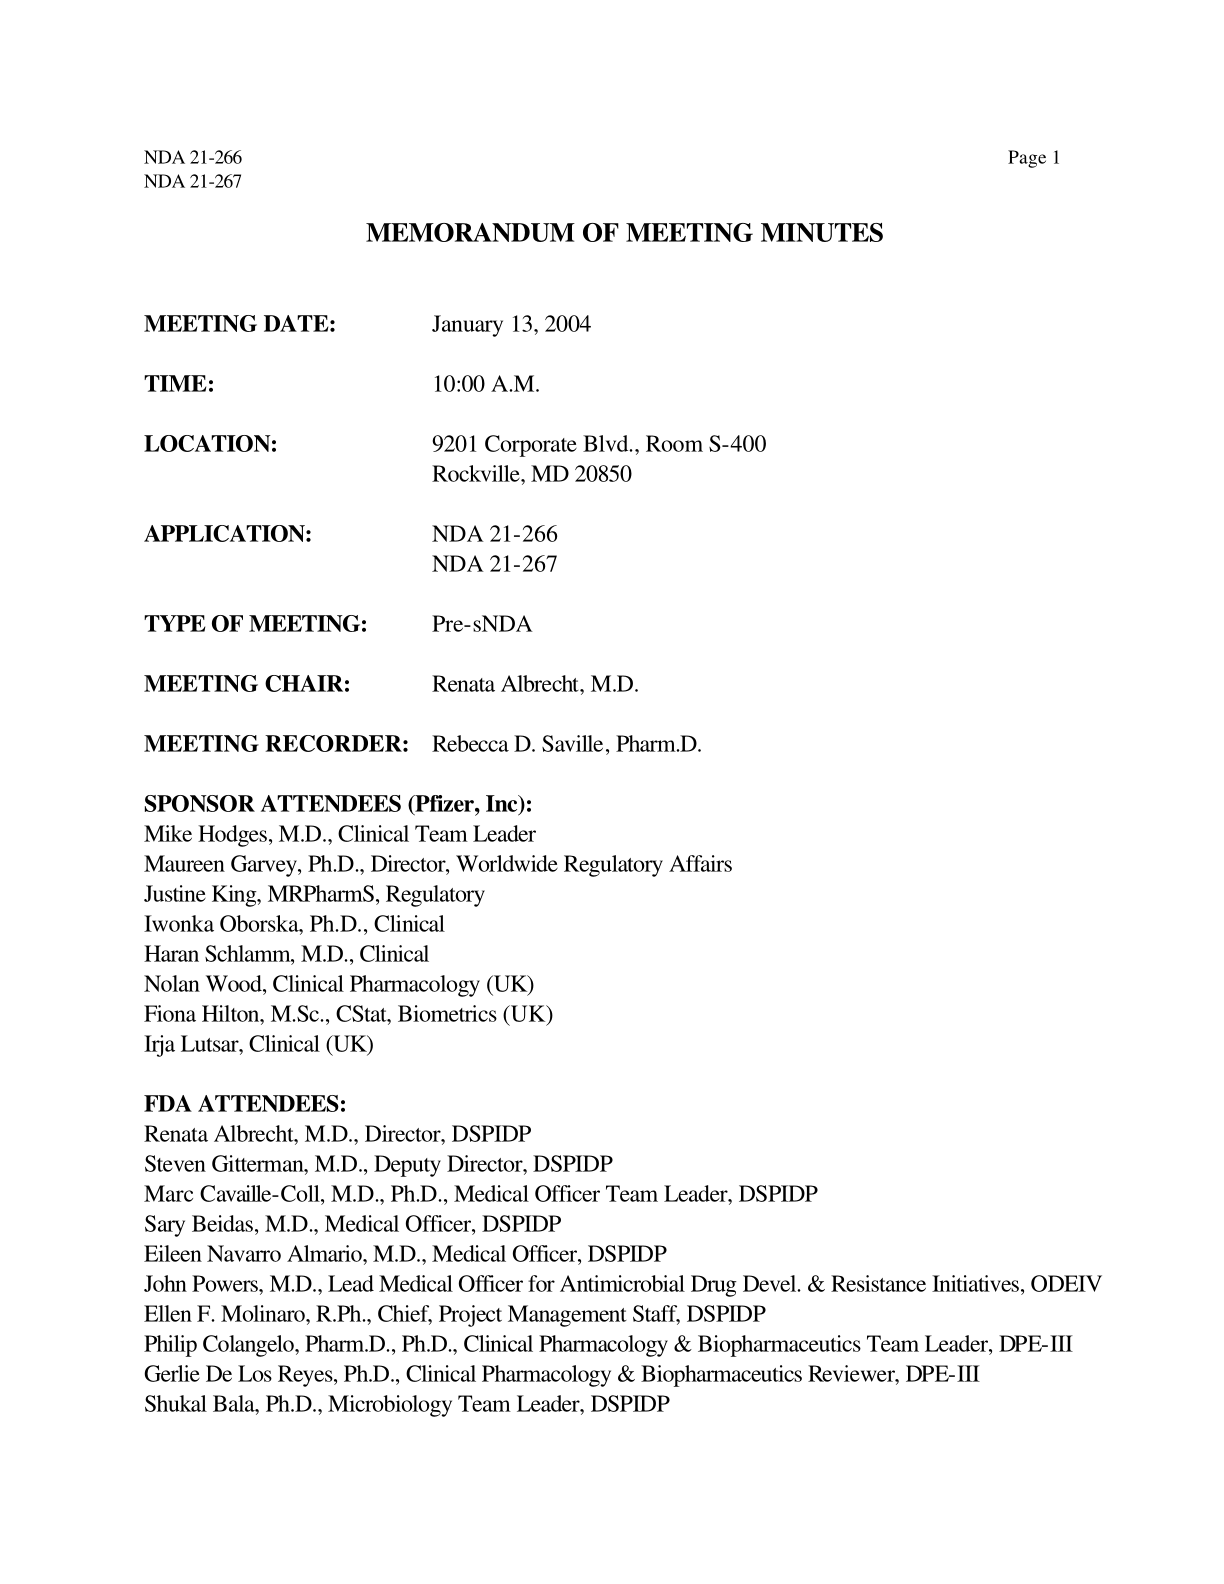nolines: (141, 309, 770, 755)
